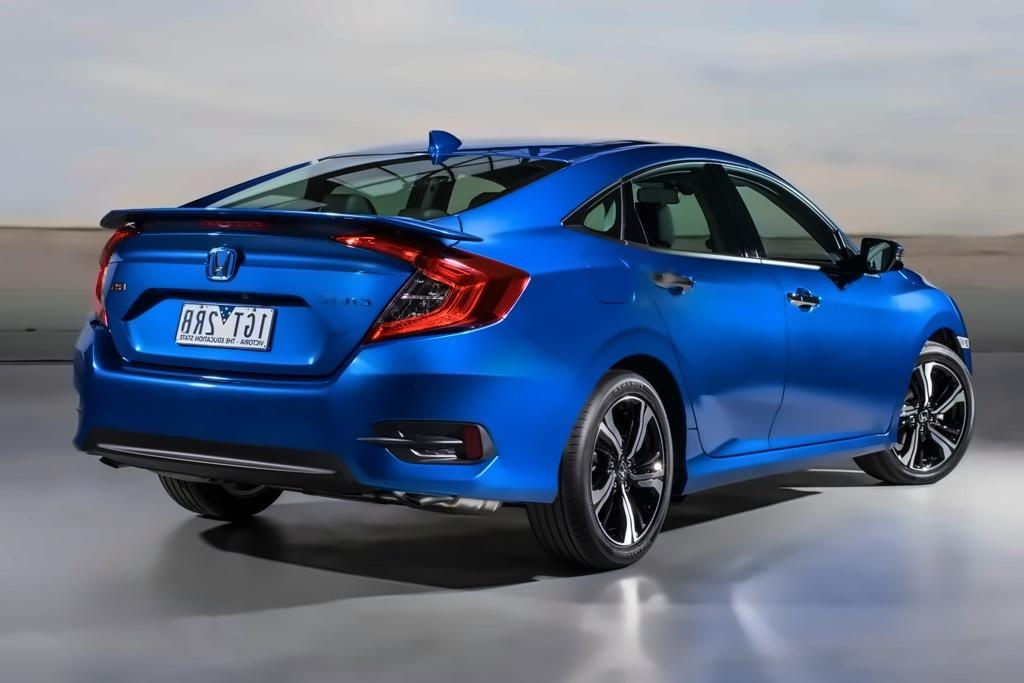Car hood: (80, 204, 458, 388)
Driver-s door - -F-R-: (735, 150, 902, 452)
Fender - -F-R-: (882, 284, 966, 462)
Fender - -R-R-: (504, 239, 707, 498)
Passenger-s door - -R-R-: (610, 140, 787, 460)
Rear bumper: (55, 331, 578, 540)
Rear light - -L-: (82, 212, 155, 342)
Rear light - -R-: (330, 225, 535, 357)
Side bumper - -R-: (678, 422, 907, 510)
Side mirror - -R-: (836, 216, 909, 288)
